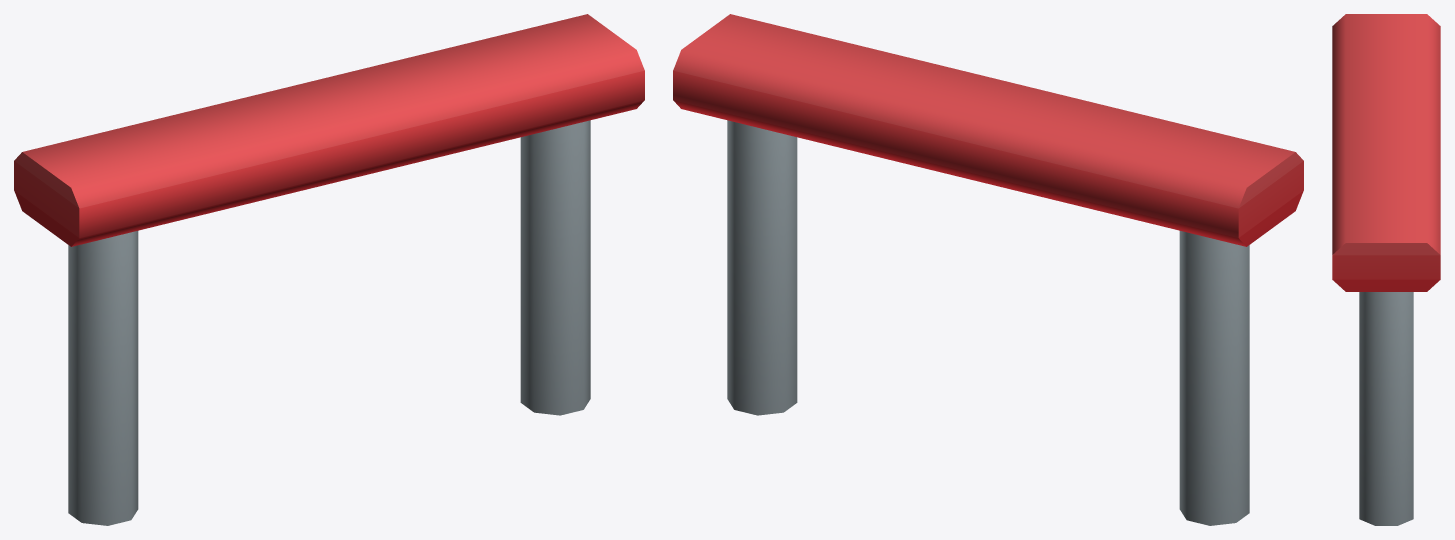
Rendered from railing_straight_single_red.glb.
3 renders of one model, left to right at view 1: azimuth 30°, elevation 25°; view 2: azimuth 150°, elevation 25°; view 3: azimuth 270°, elevation 25°, orthographic. The views are drawn at different scales.
Visible parts, largest first — view 1: railing_straight_single_red; view 2: railing_straight_single_red; view 3: railing_straight_single_red.
Boxes of the visible parts, x1=… form: railing_straight_single_red: x1=14, y1=14, x2=644, y2=525; railing_straight_single_red: x1=673, y1=14, x2=1303, y2=525; railing_straight_single_red: x1=1332, y1=14, x2=1440, y2=525.
Size of the model in its own units: 2 by 1.2 by 0.4.
Materials: 1 (1 with a texture image).
